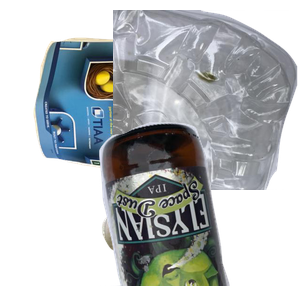glass: (97, 120, 300, 300)
paper: (31, 34, 252, 205)
plastic: (113, 10, 300, 190)
trash: (99, 155, 268, 300)
